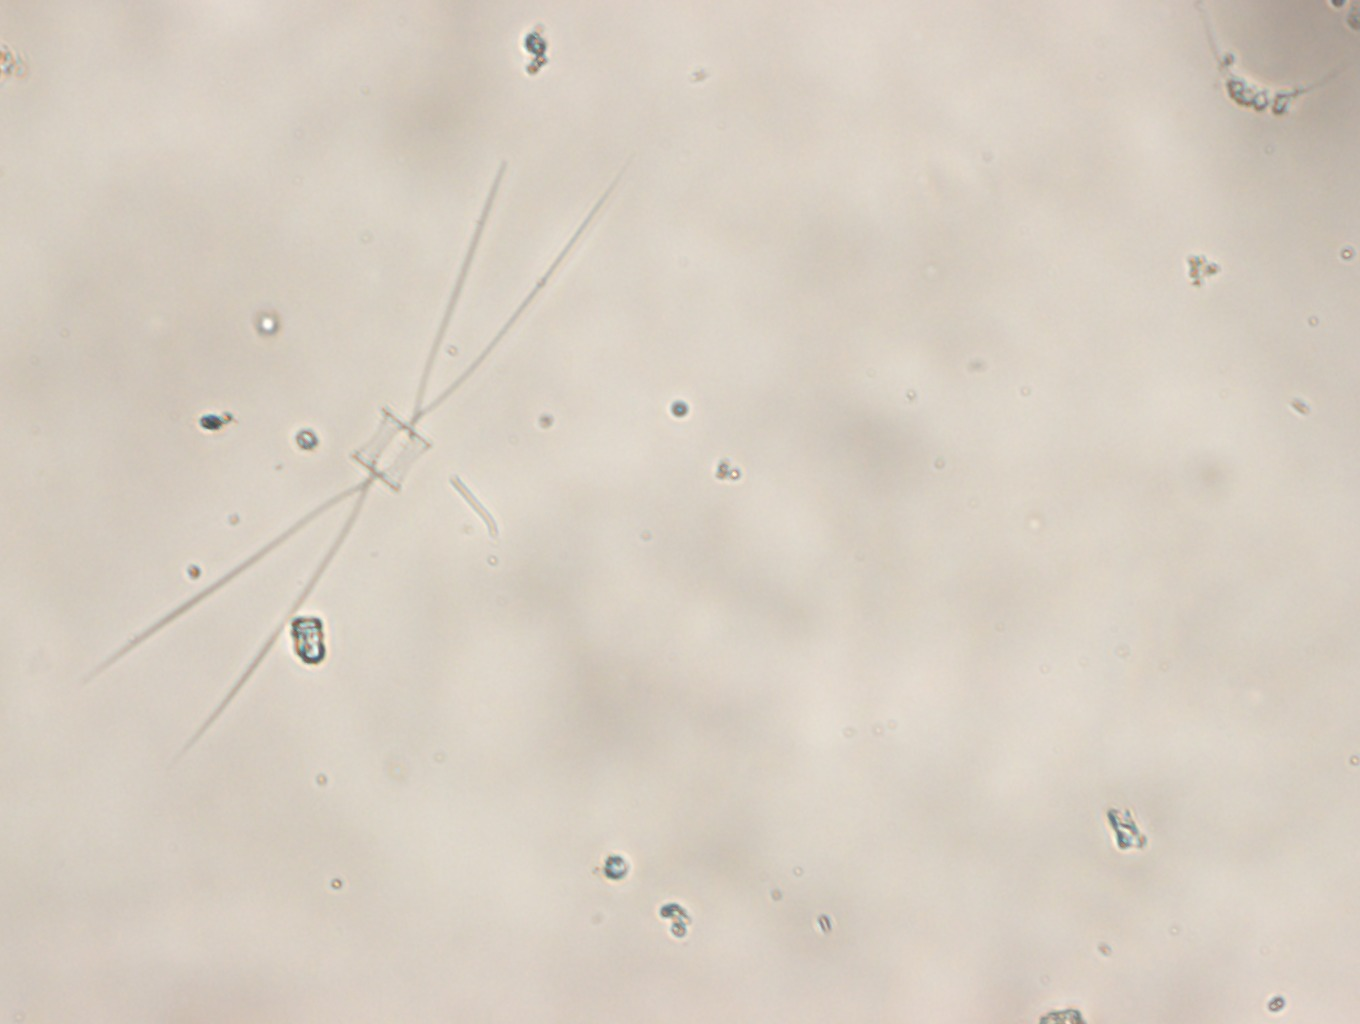chaetoceros: (75, 152, 629, 762)
